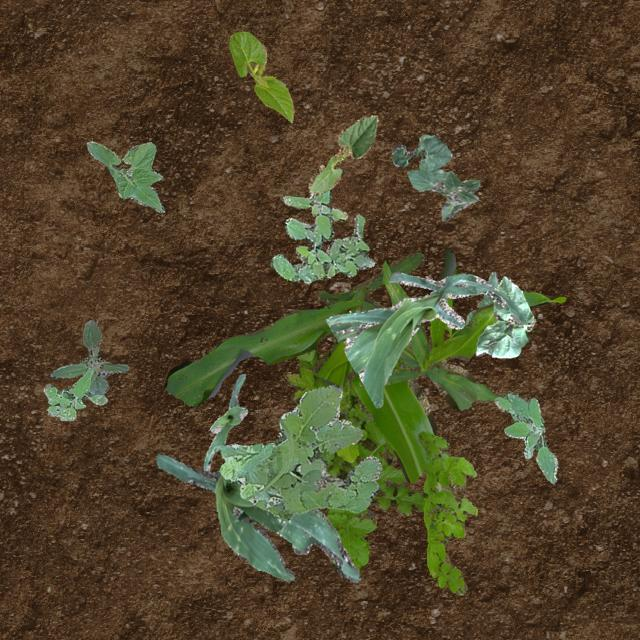crop: (163, 250, 474, 482), (380, 248, 564, 402), (324, 272, 526, 406), (156, 453, 360, 581), (228, 30, 292, 120), (85, 140, 163, 212), (308, 114, 378, 194), (474, 276, 534, 356), (202, 372, 246, 470), (406, 168, 478, 220), (391, 134, 452, 170), (463, 270, 498, 324)
weed: (284, 348, 424, 572), (218, 384, 380, 520), (416, 431, 476, 594), (270, 188, 374, 282), (50, 318, 128, 394), (494, 392, 556, 482), (42, 366, 106, 419)
